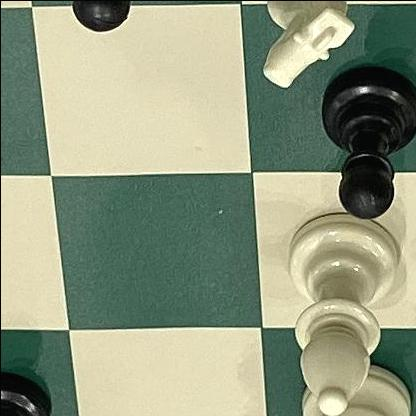black-pawn: (309, 64, 416, 231), (44, 0, 178, 51)
white-bishop: (258, 204, 416, 416)
white-knight: (237, 0, 399, 101)
white-rook: (290, 351, 416, 416)
